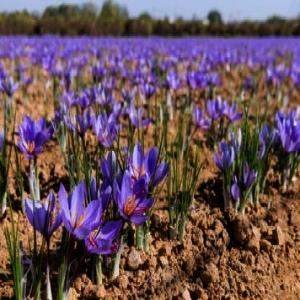Saffron: (57, 182, 102, 238), (26, 194, 66, 240), (16, 126, 44, 156)
